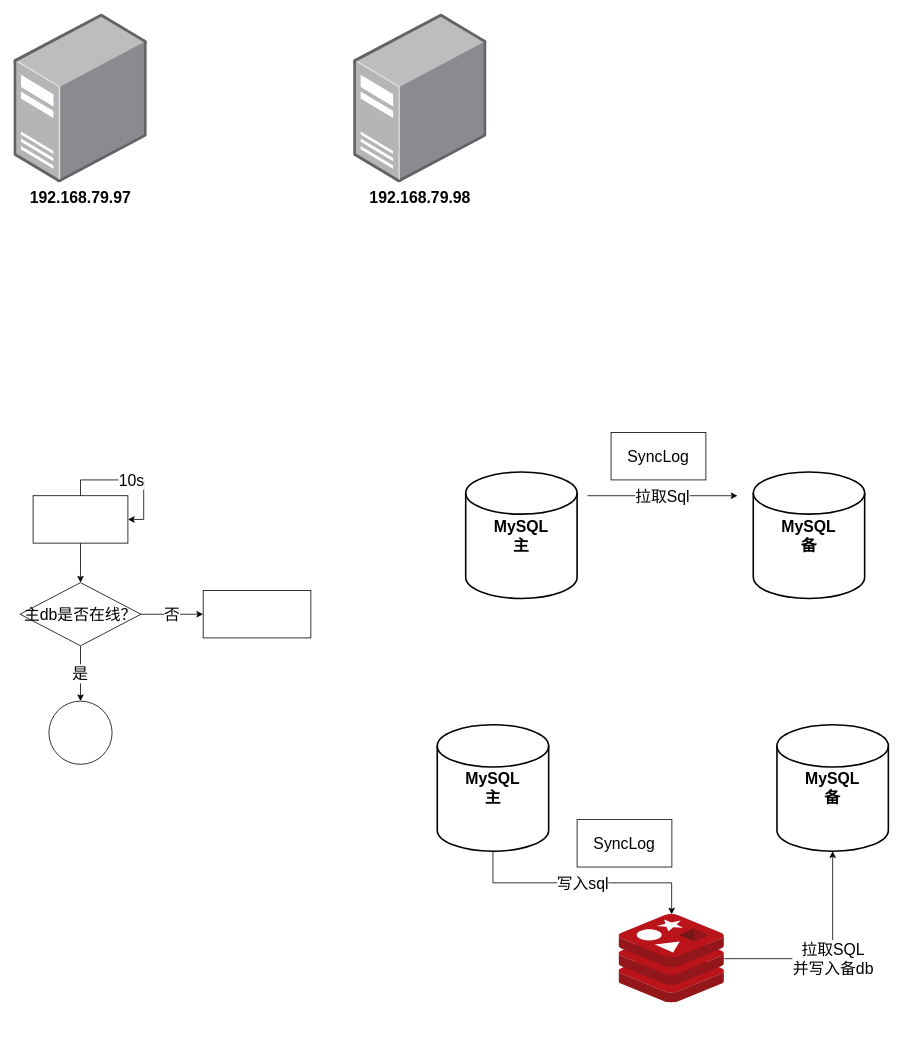
Some shapes in this 902 by 1040 pixel diagram are drawn without their labels. The centre of each missing label's shape, as x and y in pixels:
"Redis" belongs at point (671, 958).
"主db降备， 备db升主" belongs at point (256, 614).
"查询主db状态" belongs at point (80, 519).
"结束" belongs at point (80, 732).
